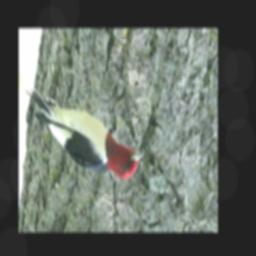Woodpecker: (20, 77, 150, 187)
